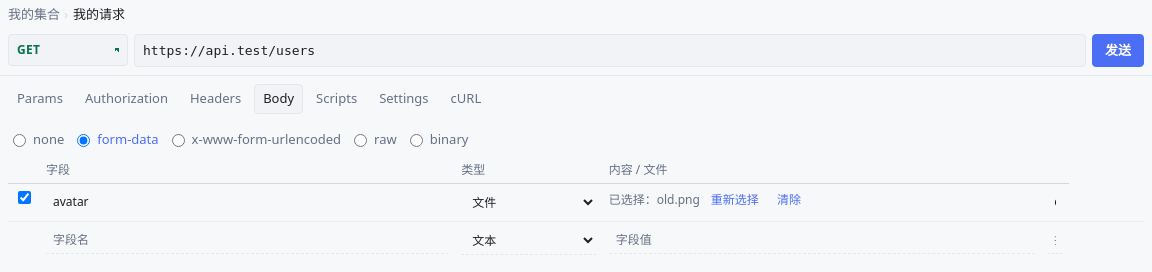
请求体文件的选取（spec: 请求体文件的选取） › 清除把句柄置空，回到「选择文件」态
The image size is (1152, 272).
Click the button with aria-label "清除文件 0" at {"x": 789, "y": 200}, box [770,188,808,212]
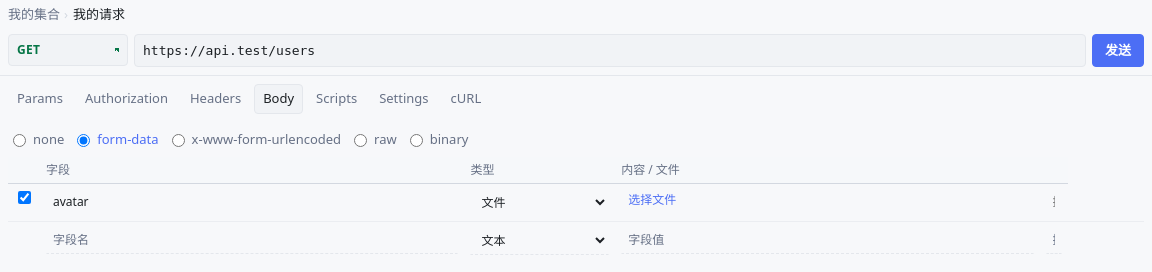
Expected: the button with aria-label "选择文件 0" is shown, [621,188,683,212]
